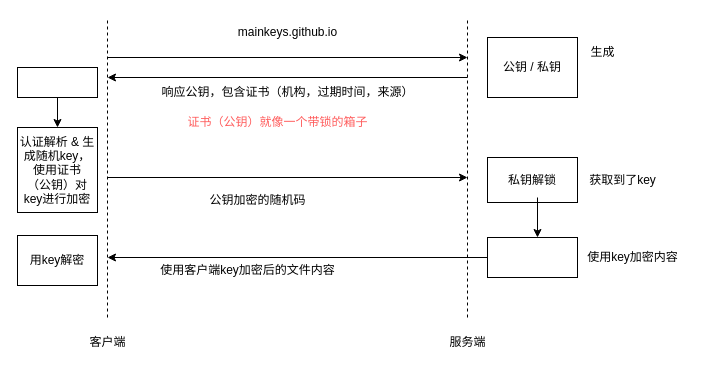
Image size: 705x375. Some labels were removed from this diagram. Each missing label, with the centre of its shape:
解包公钥: the point at 57,82
返回加密请求: the point at 532,257
